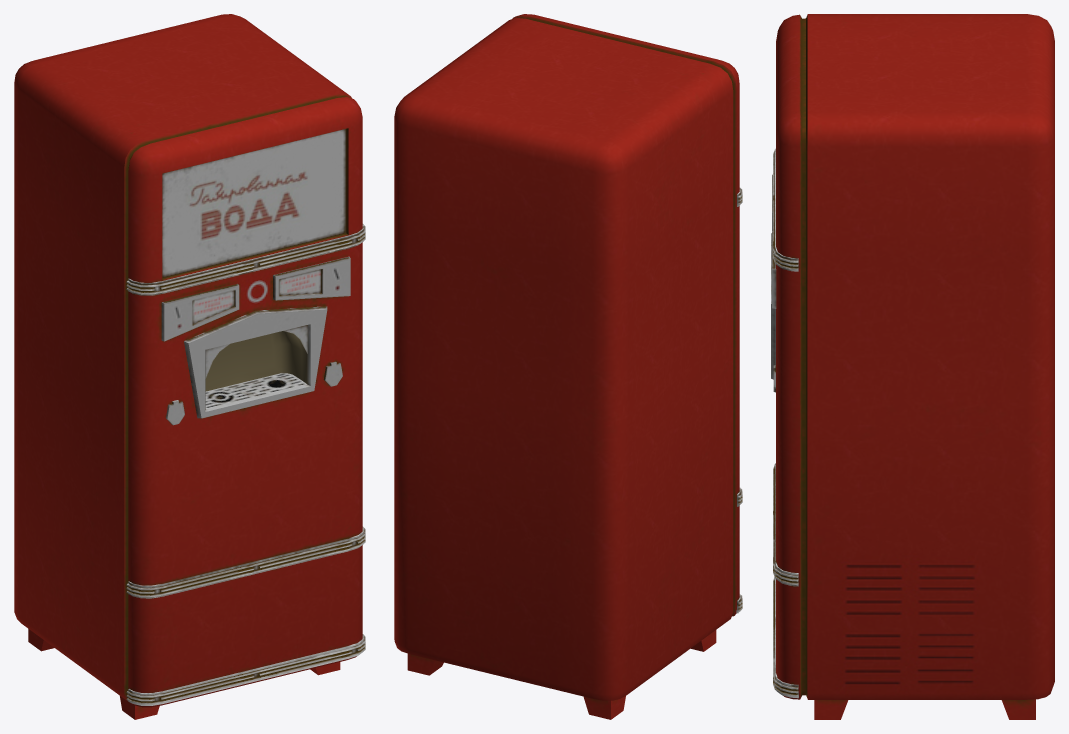
3 views of the same model, side by side, from view 1: azimuth 30°, elevation 25°; view 2: azimuth 150°, elevation 25°; view 3: azimuth 270°, elevation 25° (orthographic). The views are drawn at different scales.
Parts seen in each view (by area): view 1: Object_2; view 2: Object_2; view 3: Object_2.
Part boxes in pixels (x1,y1,x2,y2): Object_2: (14,14,365,719); Object_2: (394,14,742,719); Object_2: (771,14,1054,719).
Size of the model in its own units: 76.96 by 180 by 77.
1 material, 1 textured.
